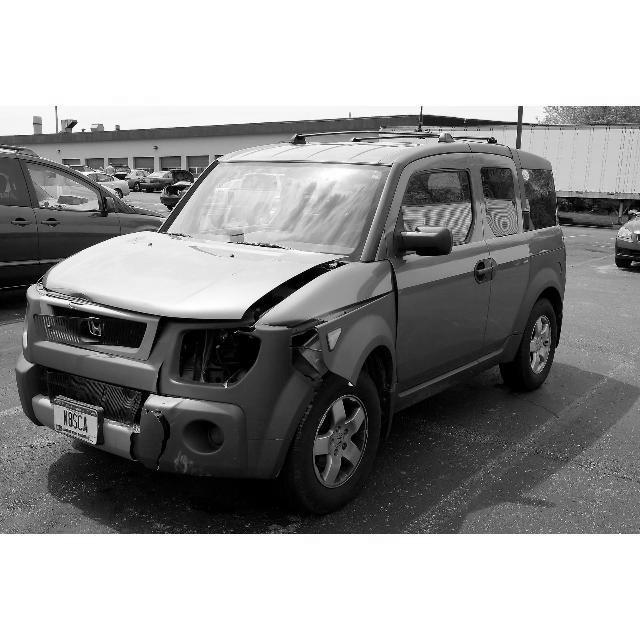bonnet-dent: (36, 223, 319, 313)
fender-dent: (288, 292, 408, 403)
front-bumper-dent: (4, 360, 235, 461)
